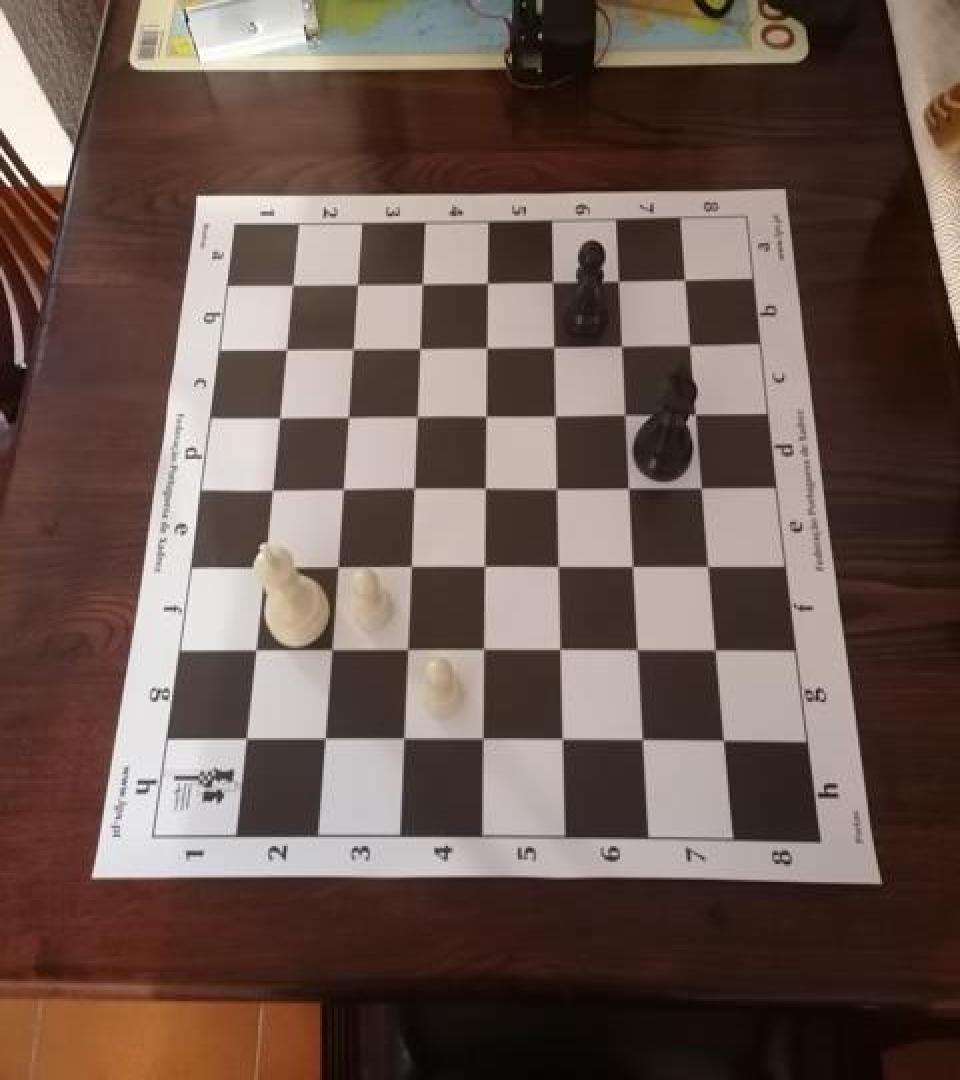xcorner: (674, 262, 702, 294), (607, 262, 635, 294), (541, 263, 569, 295), (476, 264, 504, 296), (410, 264, 438, 296), (345, 265, 373, 297), (679, 327, 707, 359), (611, 327, 639, 359), (542, 328, 570, 360), (475, 328, 503, 360), (685, 396, 713, 428), (614, 397, 642, 429), (544, 397, 572, 429), (474, 398, 502, 430), (404, 398, 432, 430), (334, 399, 362, 431), (265, 399, 293, 431), (691, 470, 719, 502), (618, 471, 646, 503), (545, 471, 573, 503), (473, 471, 501, 503), (400, 471, 428, 503), (329, 472, 357, 504), (257, 472, 285, 504), (697, 550, 725, 582), (621, 550, 649, 582), (546, 550, 574, 582), (471, 550, 499, 582), (397, 550, 425, 582), (323, 550, 351, 582), (249, 550, 277, 582), (704, 634, 732, 666), (626, 634, 654, 666), (548, 634, 576, 666), (470, 634, 498, 666), (393, 634, 421, 666), (316, 634, 344, 666), (240, 634, 268, 666), (389, 724, 417, 756), (309, 724, 337, 756), (230, 724, 258, 756), (280, 267, 308, 298), (407, 330, 435, 361), (340, 330, 368, 361), (273, 331, 301, 362), (711, 726, 739, 757), (630, 726, 658, 757), (549, 726, 577, 757), (469, 726, 497, 757)
